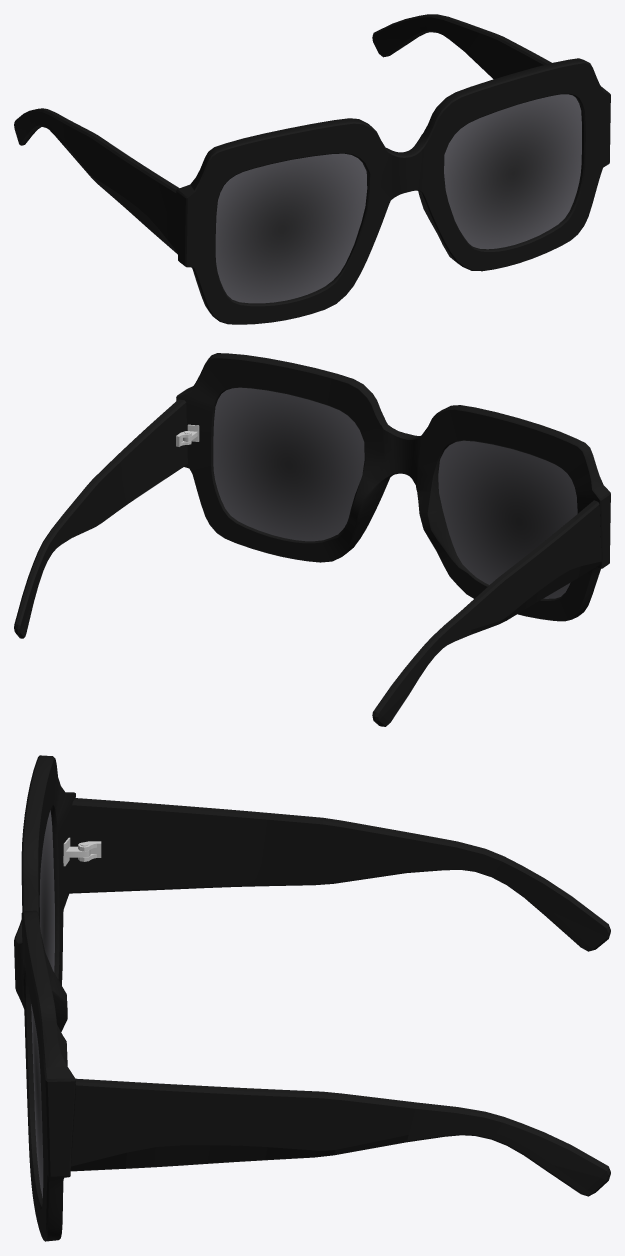
Rendered from SM_Glasses_05.FBX.
3 views of the same model, one above another, from view 1: azimuth 30°, elevation 25°; view 2: azimuth 150°, elevation 25°; view 3: azimuth 270°, elevation 25° (orthographic). The views are drawn at different scales.
Visible parts, largest first — view 1: SM_Glasses_05; view 2: SM_Glasses_05; view 3: SM_Glasses_05.
Boxes of the visible parts, x1,y1,x2,y2 form: SM_Glasses_05: (14, 14, 610, 324); SM_Glasses_05: (14, 353, 610, 726); SM_Glasses_05: (14, 755, 610, 1241).
Size of the model in its own units: 11.83 by 5.74 by 13.48.
